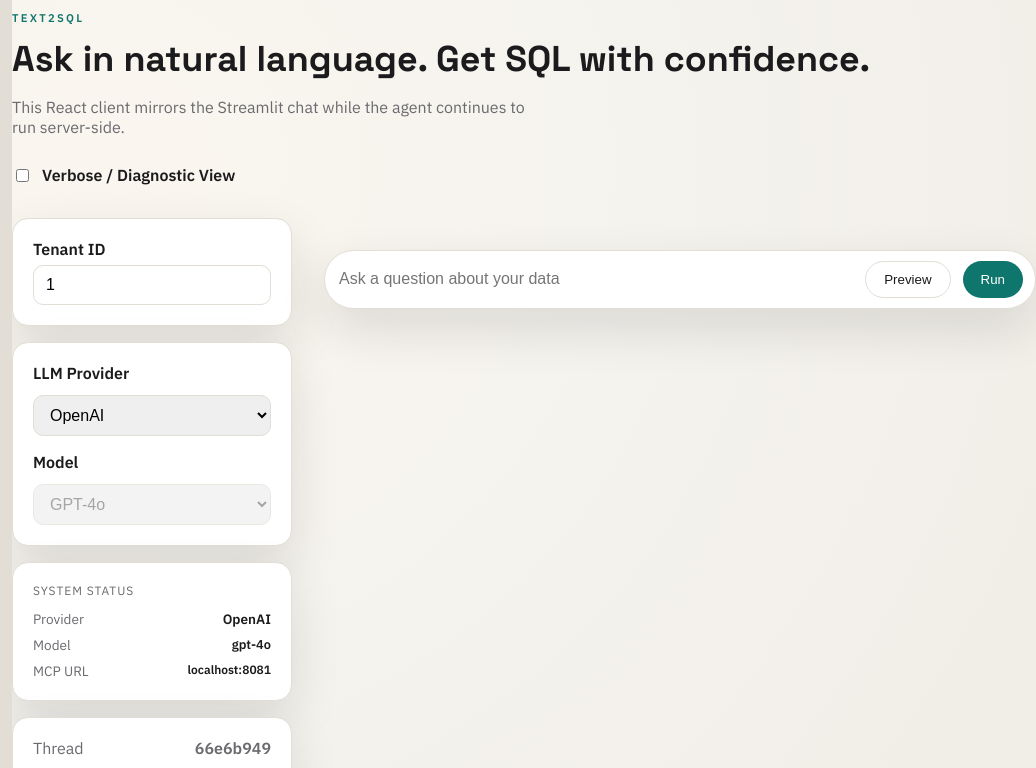
Test case: AgentChat streaming › falls back to runAgent when stream fails
The width and height of the screenshot is (1036, 768).
Type "test fallback" into the field with placeholder "Ask a question about your data" at (595, 279), box [337, 261, 853, 298]
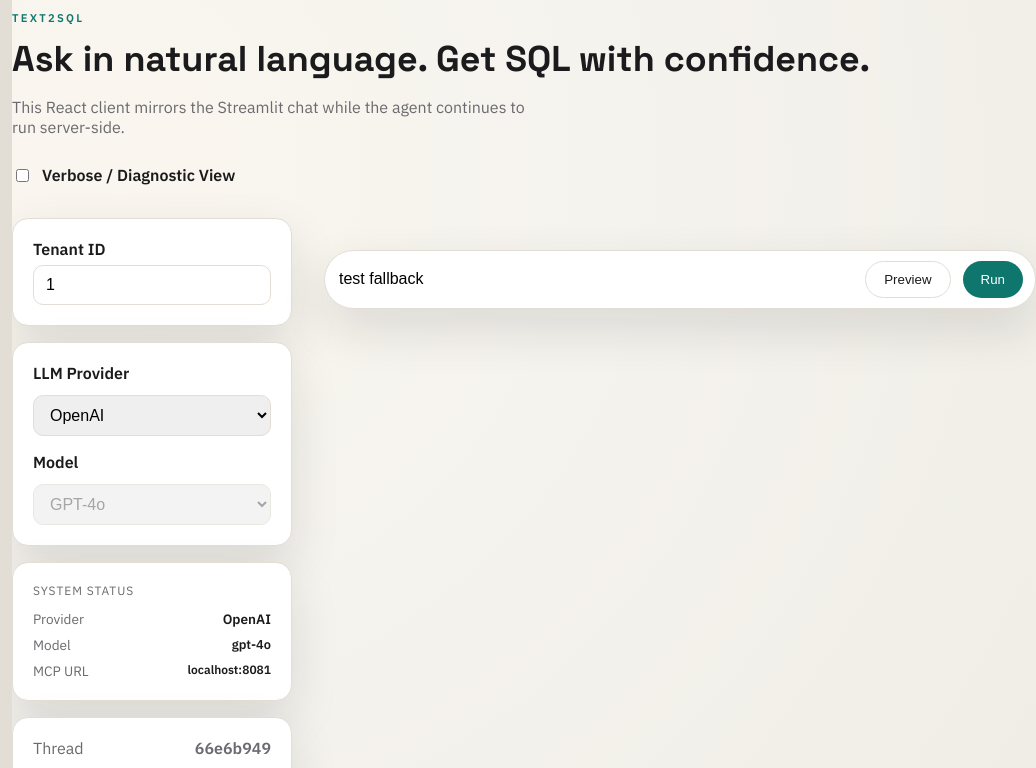
Submit the form with placeholder "ask a question", box [324, 250, 1035, 309]
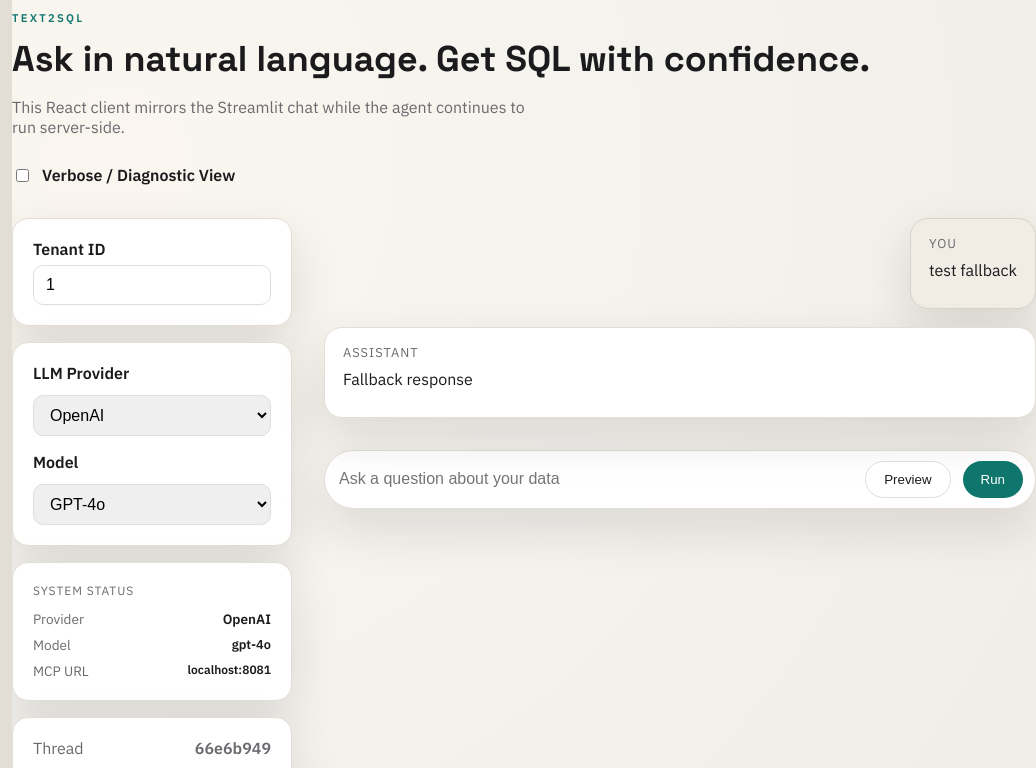
Result: the text "Fallback response" is shown at [343, 369, 473, 389]
